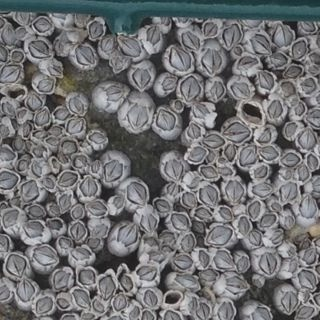Barnacle: (55, 97, 85, 120), (127, 101, 149, 132), (125, 181, 148, 206), (205, 224, 232, 245), (169, 46, 193, 69), (223, 122, 250, 142), (182, 74, 202, 101), (272, 23, 294, 47), (118, 222, 138, 248), (103, 158, 123, 183), (203, 48, 222, 74), (119, 34, 141, 56), (6, 254, 27, 277), (223, 276, 248, 295), (260, 252, 279, 277), (32, 246, 57, 265), (0, 202, 19, 227), (155, 109, 177, 130), (163, 158, 183, 181), (58, 140, 78, 163), (251, 32, 271, 55), (223, 23, 241, 48), (297, 127, 317, 149), (21, 179, 40, 202), (30, 38, 51, 58), (281, 290, 299, 313), (300, 195, 317, 219), (213, 250, 234, 269), (226, 180, 244, 202), (18, 278, 35, 301), (201, 184, 217, 208), (298, 269, 317, 289), (0, 171, 19, 191), (80, 175, 98, 196), (230, 81, 251, 99), (0, 65, 21, 83), (133, 67, 150, 89), (140, 211, 156, 234), (252, 181, 273, 198), (240, 144, 257, 165), (100, 276, 115, 299), (177, 273, 198, 289), (23, 221, 44, 237), (87, 201, 108, 217), (282, 181, 298, 202), (104, 86, 125, 102), (1, 23, 16, 45), (112, 294, 130, 312), (183, 31, 201, 49), (36, 295, 53, 314), (54, 270, 71, 289), (281, 151, 301, 167), (292, 40, 308, 60), (238, 55, 259, 70), (203, 134, 225, 148), (189, 144, 206, 162), (74, 290, 90, 309), (70, 222, 86, 241), (59, 171, 78, 187), (77, 46, 93, 65), (269, 98, 284, 118), (33, 17, 53, 32), (193, 102, 210, 119), (300, 78, 317, 95), (220, 301, 236, 319), (259, 71, 275, 89), (138, 266, 157, 281), (174, 254, 193, 269), (260, 145, 279, 160), (296, 305, 316, 319), (148, 250, 168, 264), (120, 271, 133, 292), (212, 80, 225, 101), (79, 269, 96, 285), (173, 213, 190, 229), (68, 118, 85, 134), (270, 53, 288, 68), (252, 306, 272, 319), (147, 25, 160, 45), (181, 190, 196, 207), (198, 301, 212, 319), (92, 222, 110, 236), (195, 206, 213, 220), (145, 288, 158, 307), (297, 164, 310, 183), (37, 79, 56, 92), (238, 215, 250, 235), (249, 200, 261, 220), (187, 124, 202, 140), (16, 8, 31, 24), (261, 213, 278, 227), (110, 55, 124, 72), (300, 18, 317, 32), (90, 19, 103, 37), (71, 248, 92, 259), (59, 193, 71, 212), (248, 230, 262, 246), (28, 95, 42, 111), (182, 234, 195, 251), (198, 249, 210, 267), (73, 154, 88, 168), (163, 75, 177, 90), (304, 248, 317, 264), (286, 65, 302, 78), (102, 36, 115, 52), (204, 20, 217, 36), (307, 153, 319, 170), (307, 109, 319, 126), (36, 111, 50, 125), (282, 81, 296, 95), (191, 219, 204, 234), (155, 199, 170, 212), (254, 163, 267, 178), (259, 129, 272, 144), (2, 102, 15, 117), (145, 236, 161, 248), (237, 256, 248, 273), (89, 132, 106, 143), (168, 183, 181, 197), (285, 122, 298, 136), (76, 12, 90, 25), (93, 298, 105, 313), (219, 208, 234, 220), (41, 177, 56, 189), (0, 148, 15, 160), (201, 269, 217, 280), (217, 165, 233, 176), (225, 145, 236, 161), (0, 285, 10, 302), (28, 206, 45, 216), (200, 167, 217, 177), (0, 121, 10, 138), (51, 11, 68, 21), (270, 230, 283, 243), (48, 64, 63, 75), (0, 234, 9, 252), (188, 295, 198, 311), (23, 123, 33, 139), (71, 206, 83, 219), (113, 196, 125, 209), (188, 176, 200, 189), (56, 297, 70, 308), (49, 219, 63, 230), (32, 160, 41, 176), (0, 44, 8, 62), (285, 214, 294, 229), (33, 130, 48, 139), (12, 50, 23, 62), (130, 306, 140, 319), (59, 238, 72, 248), (162, 231, 175, 241), (47, 136, 60, 146), (143, 308, 154, 319), (18, 160, 29, 171), (297, 232, 307, 244), (14, 138, 24, 150), (288, 259, 297, 272), (87, 239, 100, 248), (296, 102, 305, 115), (175, 99, 185, 110), (17, 27, 28, 37), (34, 146, 46, 155), (310, 53, 319, 65), (82, 311, 95, 319), (49, 126, 62, 134), (55, 40, 63, 53), (179, 16, 192, 24), (161, 16, 171, 26), (164, 244, 175, 253), (50, 204, 61, 213), (308, 65, 319, 74), (302, 290, 310, 302), (92, 161, 100, 173), (208, 150, 216, 162), (272, 202, 282, 211), (282, 171, 292, 180), (11, 118, 18, 130), (290, 96, 299, 105), (287, 246, 295, 256), (17, 110, 27, 118)
